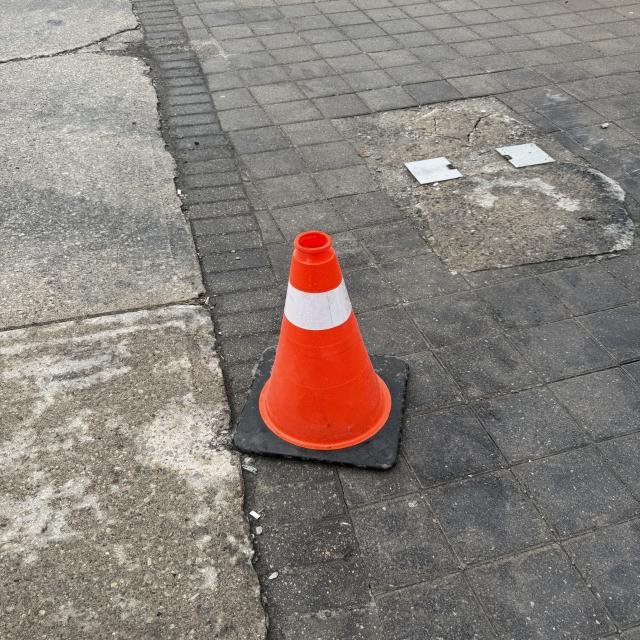Traffic Cone: (229, 228, 416, 471)
